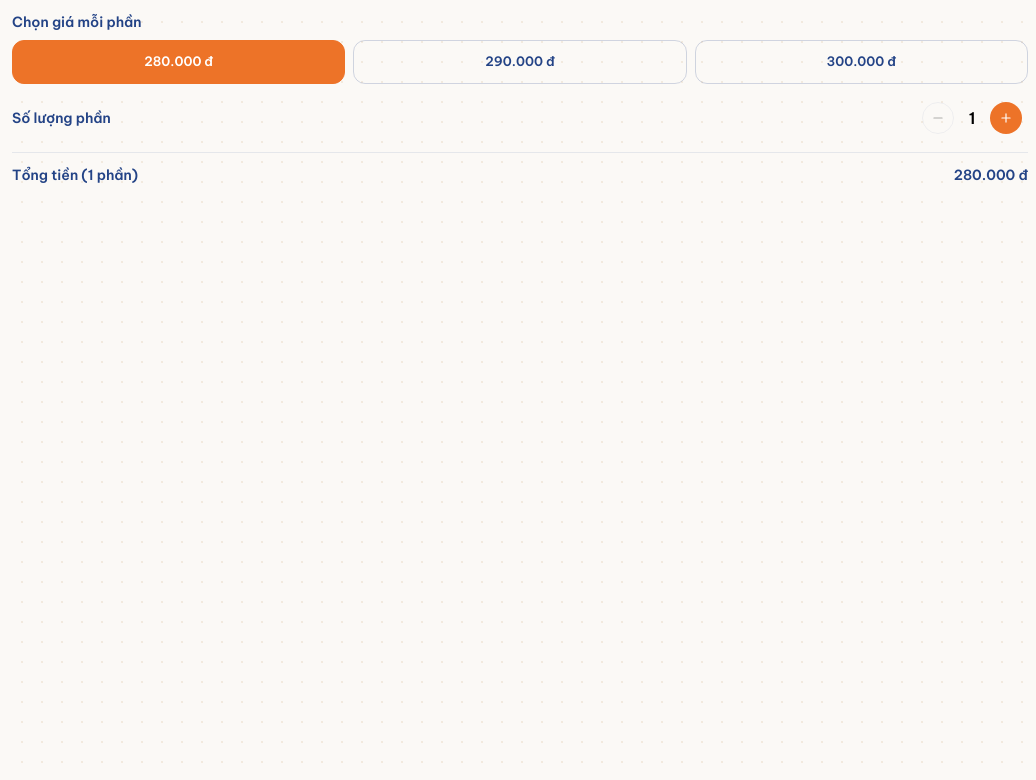
Test: portion selection › updates the total when choosing a price and changing quantity
This screenshot has width=1036, height=780.
Step 1. Click the radio button labelled "290.000 đ" → (520,62), box [353,40,687,84]
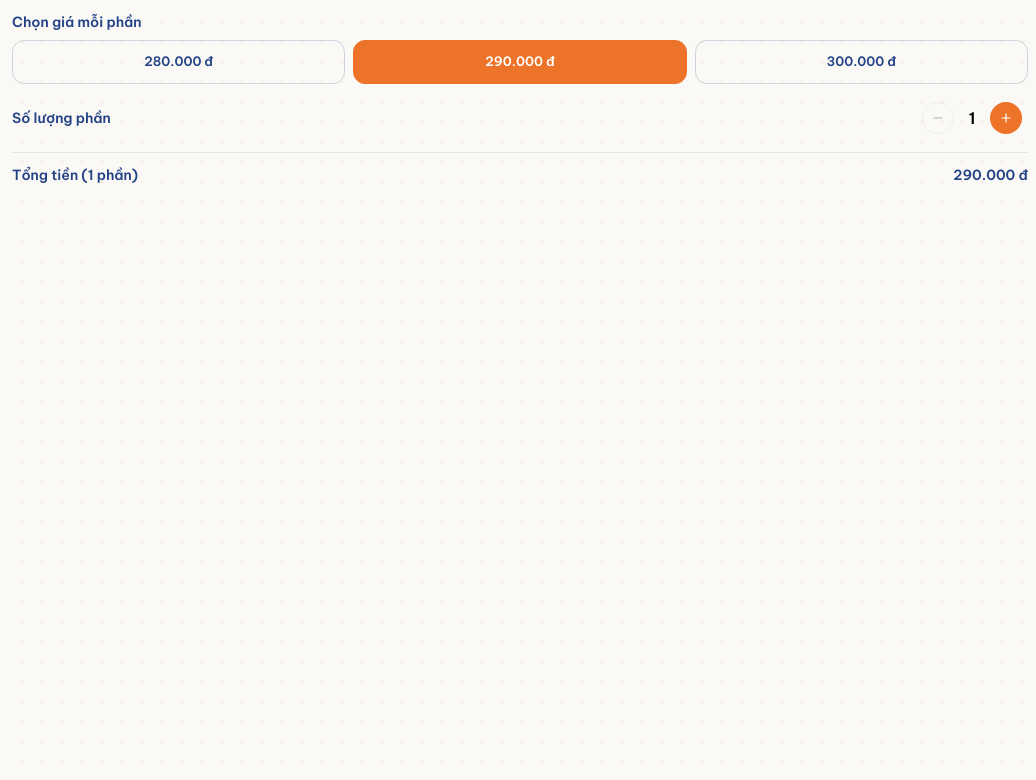
Step 2. Click the button named "Tăng số phần" → (1006,118), box [984,96,1028,140]
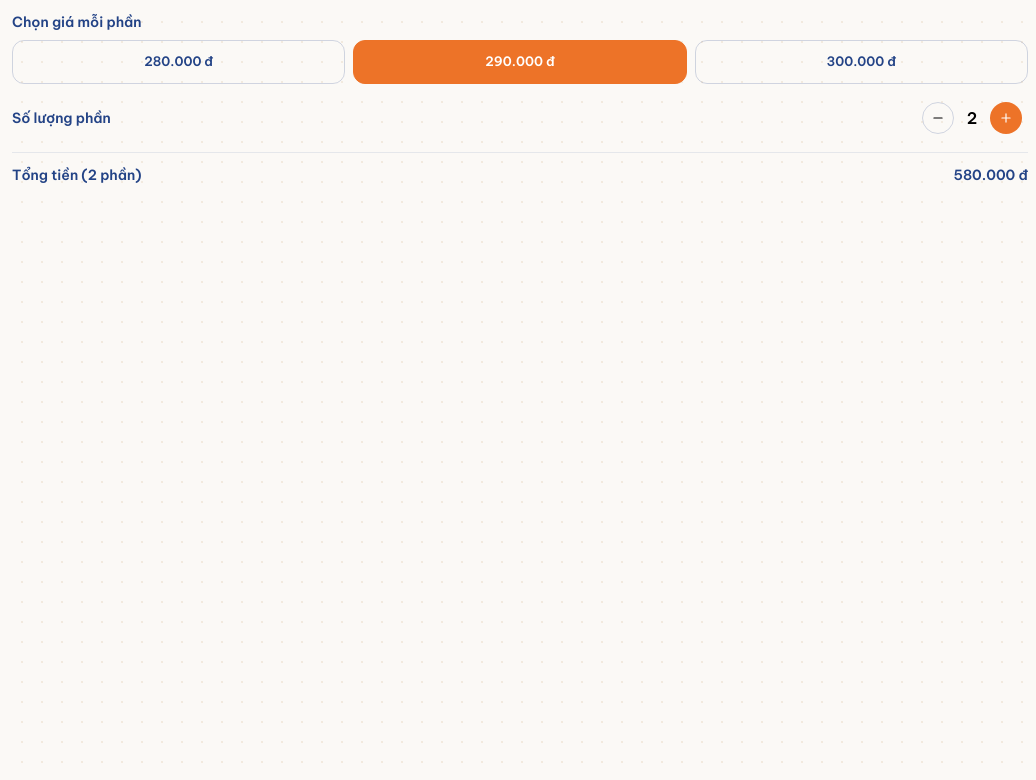
Expected: the text named "Tổng tiền phần đã chọn" reads "580.000 đ", [954,166,1028,184]
Step 3. Click the button named "Giảm số phần" → (938,118), box [916,96,960,140]
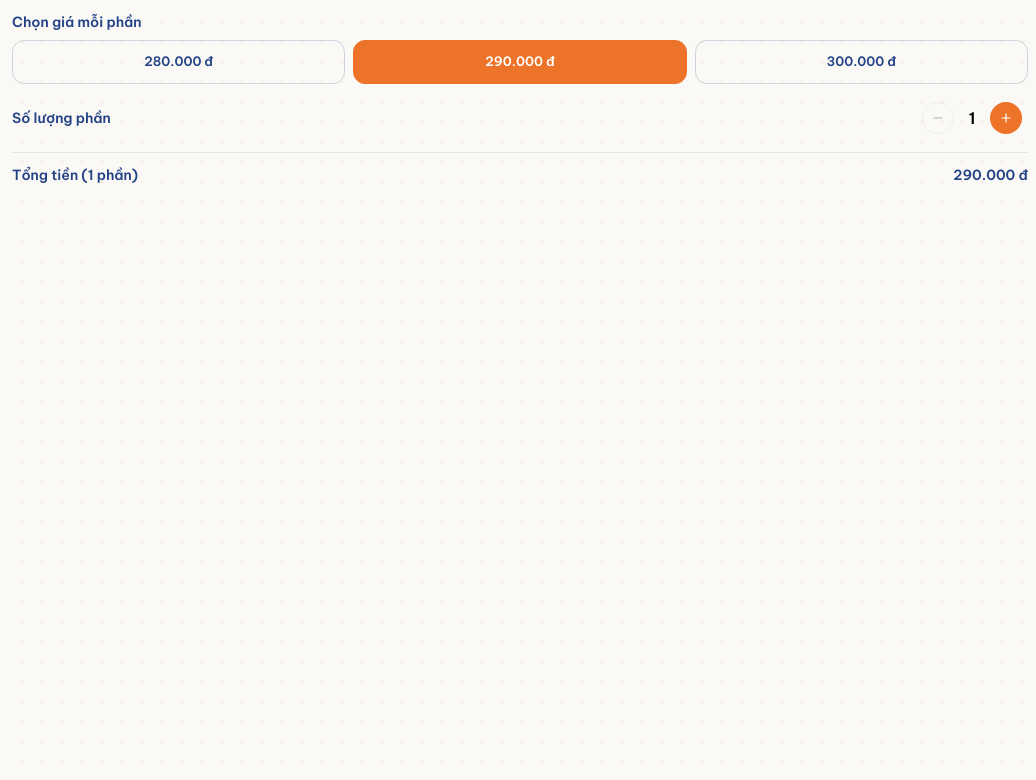
Expected: the button named "Giảm số phần" is disabled, [916,96,960,140]
